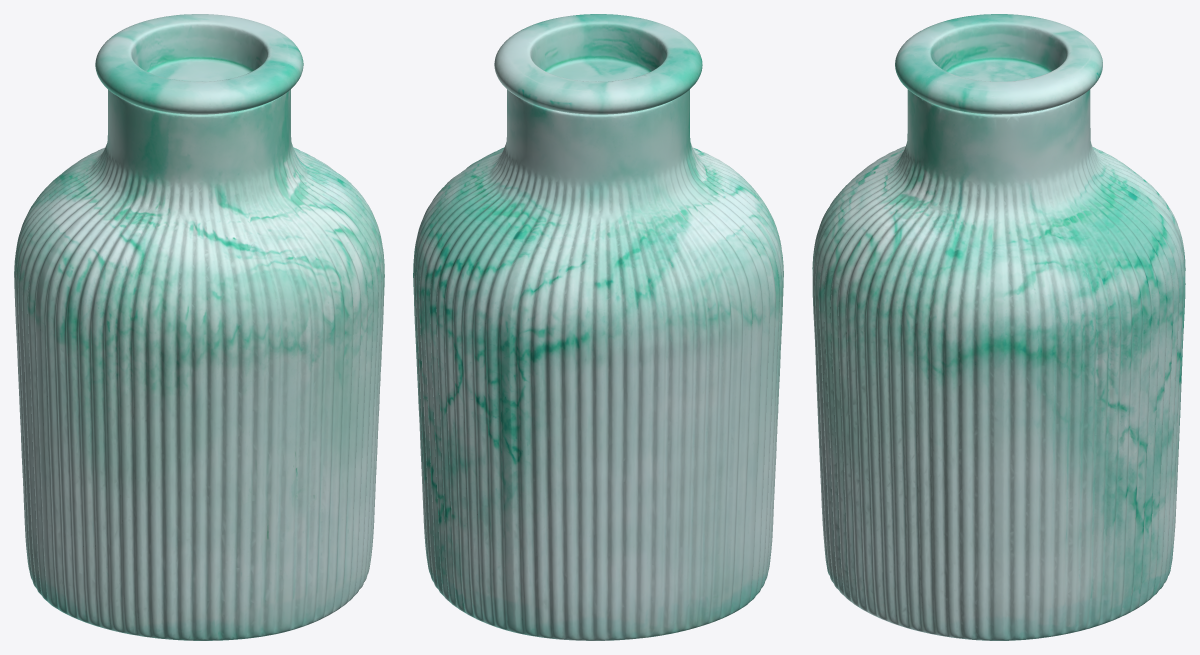
The model's file is Green Nigel.glb.
The picture shows the model from 3 angles, left to right: view 1: azimuth 30°, elevation 25°; view 2: azimuth 150°, elevation 25°; view 3: azimuth 270°, elevation 25°; orthographic projection.
Visible parts, largest first — view 1: Mesh_0; view 2: Mesh_0; view 3: Mesh_0.
Boxes of the visible parts, x1,y1,x2,y2 form: Mesh_0: (14, 14, 384, 640); Mesh_0: (413, 14, 783, 640); Mesh_0: (812, 14, 1185, 640).
Size of the model in its own units: 0.0652 by 0.1 by 0.0652.
Materials: 1 (1 with a texture image).
